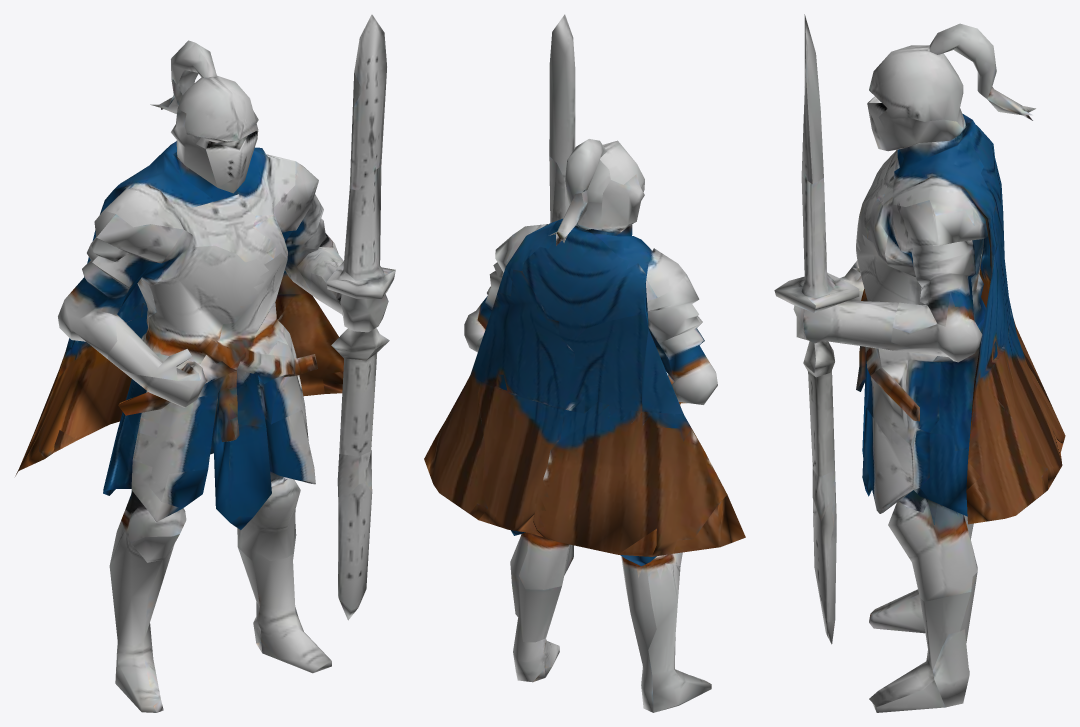
File: swordsman.glb
The picture shows the model from 3 angles, left to right: view 1: azimuth 30°, elevation 25°; view 2: azimuth 150°, elevation 25°; view 3: azimuth 270°, elevation 25°; orthographic projection. The views are drawn at different scales.
Size of the model in its own units: 1.05 by 1.9 by 0.7123.
1 material, 1 textured.
